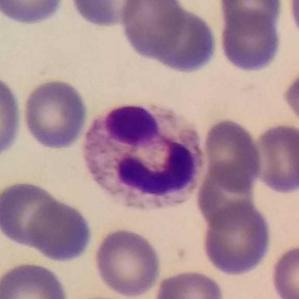Neutrophil: (76, 95, 209, 219)
RBC: (200, 200, 274, 278), (142, 2, 219, 76), (92, 226, 164, 299), (20, 77, 90, 151), (0, 177, 66, 252), (201, 116, 264, 192), (26, 198, 94, 264), (194, 162, 259, 230), (117, 0, 187, 62), (217, 11, 284, 73), (249, 121, 299, 197), (0, 260, 70, 299), (151, 267, 226, 299), (66, 0, 148, 29), (216, 0, 286, 32), (0, 69, 24, 161), (0, 0, 68, 27), (268, 242, 298, 299), (281, 66, 299, 128), (286, 0, 299, 40)
